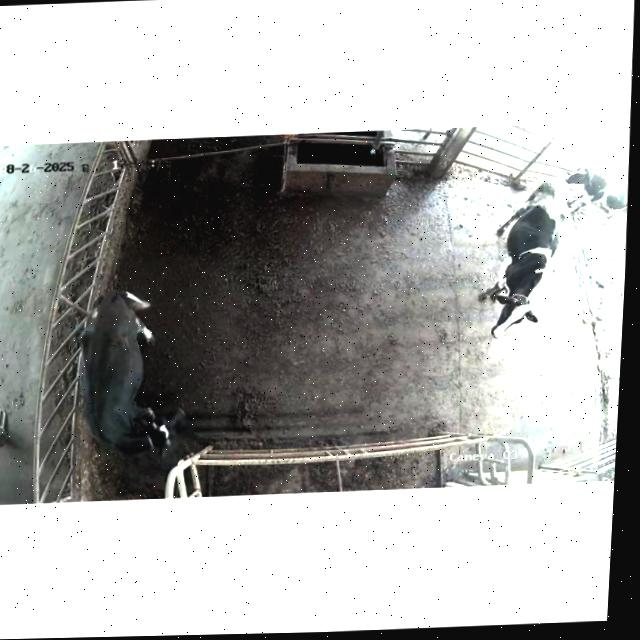stand: (65, 280, 200, 465), (467, 177, 567, 347), (560, 157, 630, 231)
